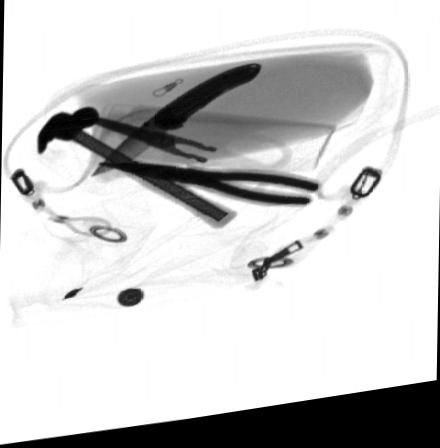Hammer: (35, 105, 239, 238)
Knife: (87, 68, 266, 183)
Pliers: (96, 163, 324, 216)
Scissors: (85, 117, 295, 207)
